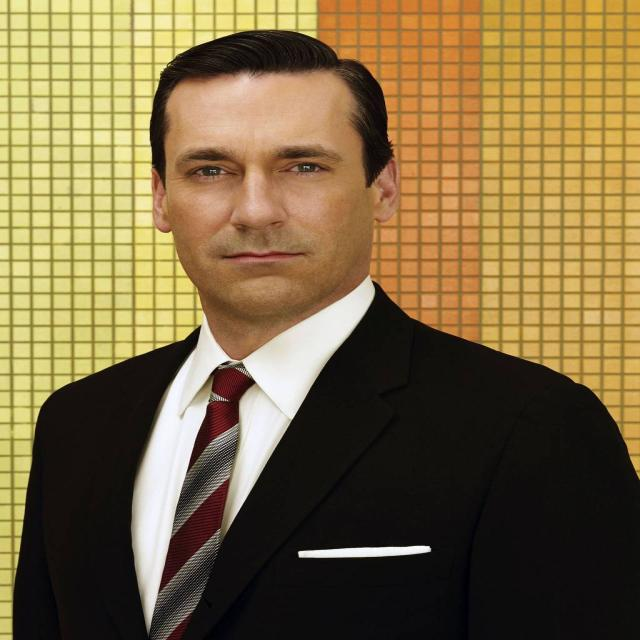human: (17, 27, 640, 640)
